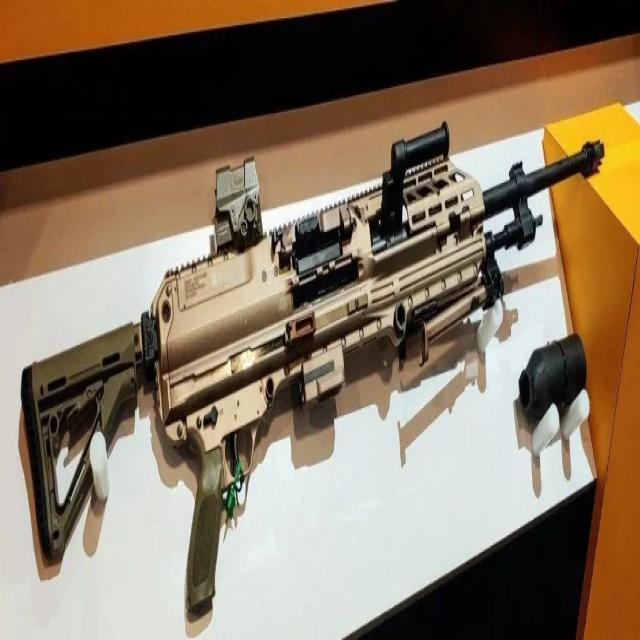weapon: (21, 120, 606, 623)
